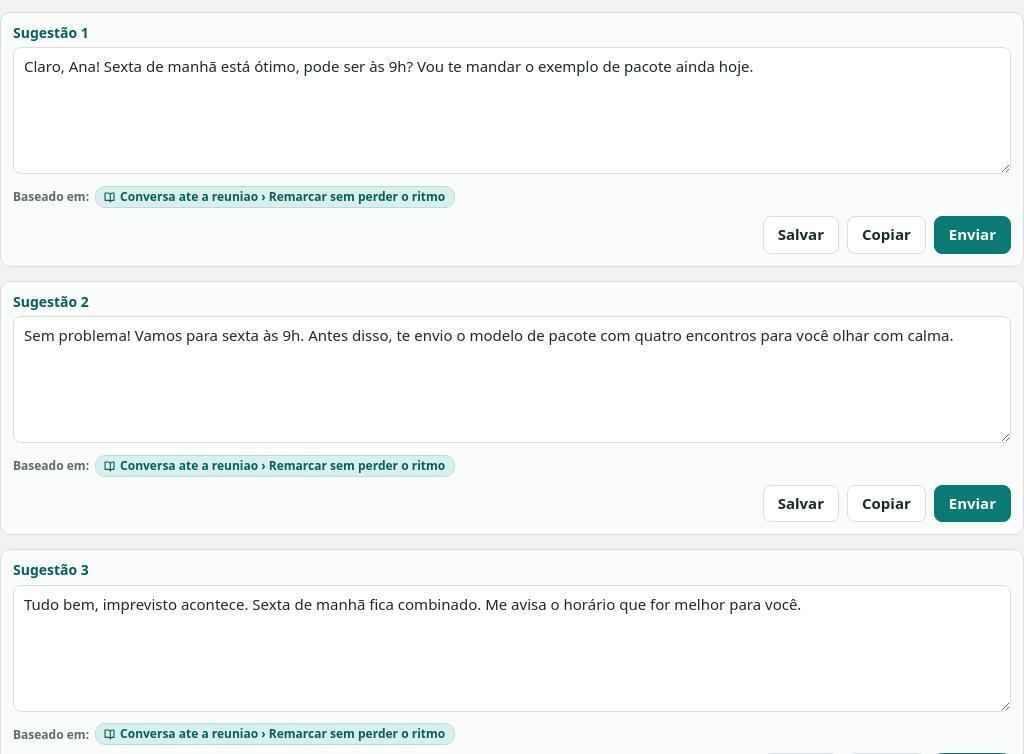
it: Enviar (envio direto) › Cancelar fecha o diálogo sem enviar nada
Click the 2nd button "Enviar" at (972, 504), box [934,485,1011,522]
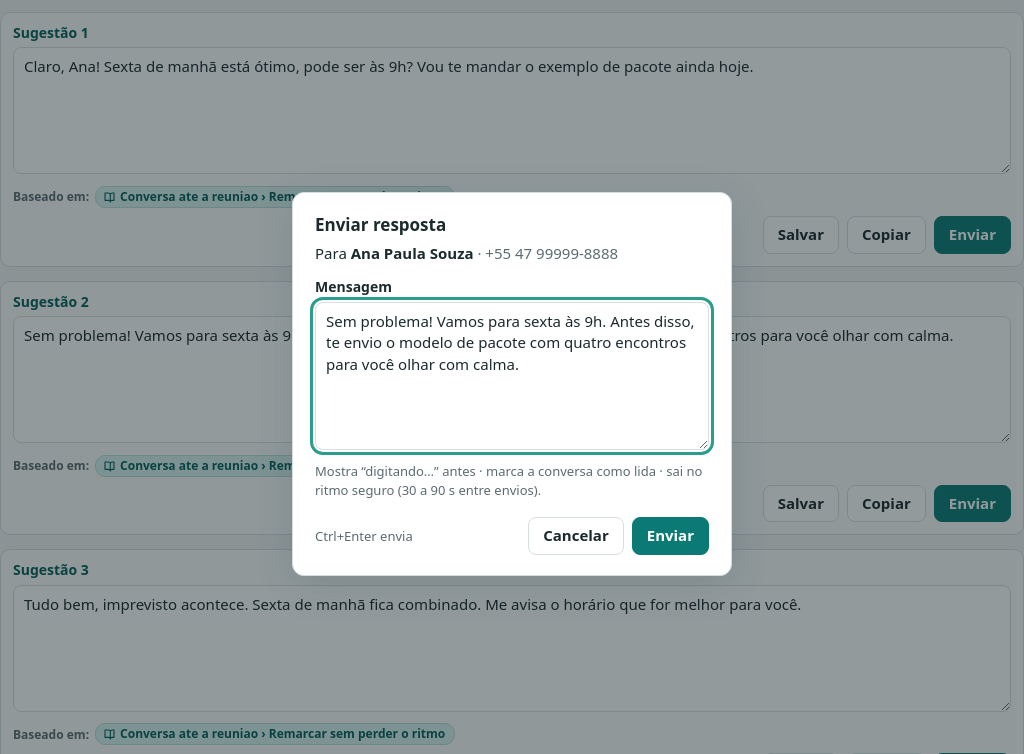
Now the text "Ana Paula Souza" is shown, box [351,244,474,264]
Click the button "Cancelar" at (576, 536), box [528,517,624,555]
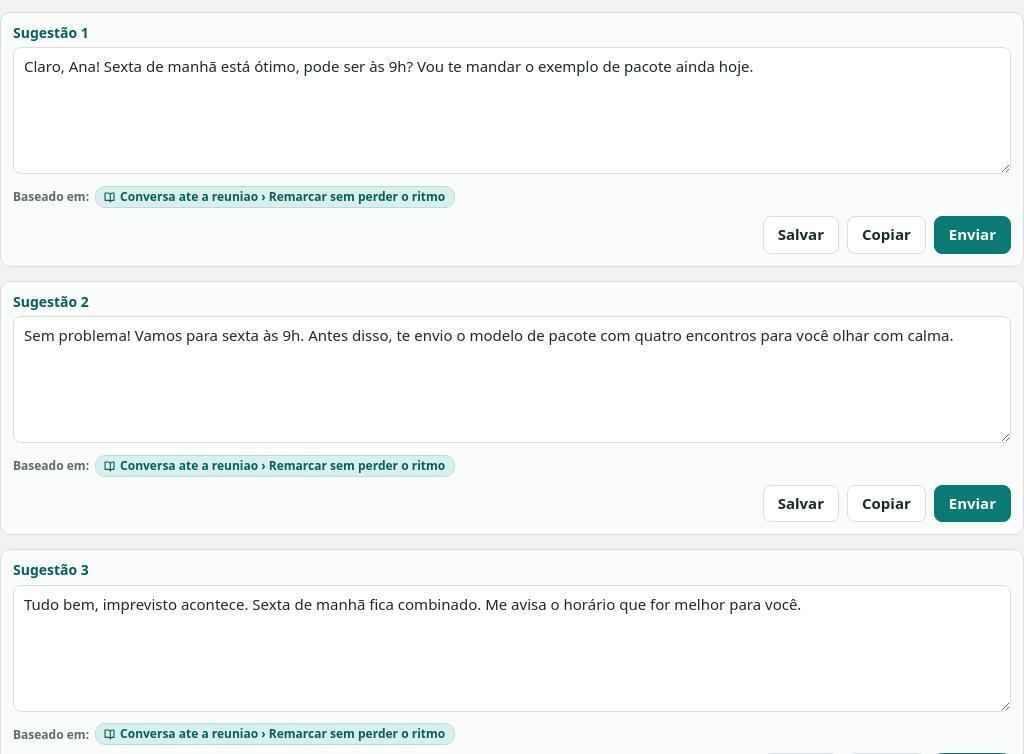
Now the dialog is gone
